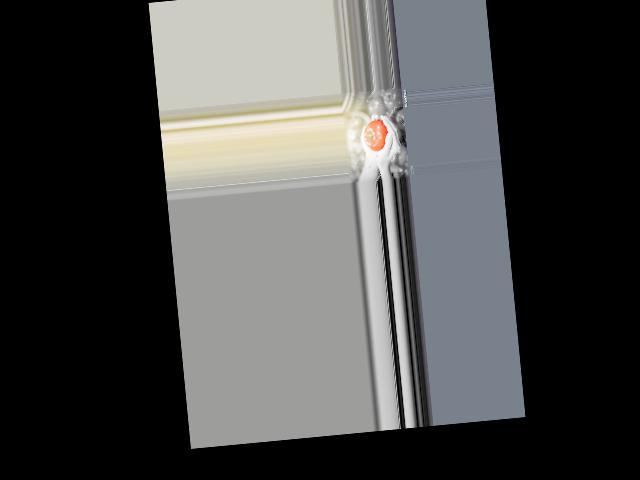tomato: (362, 119, 389, 152)
